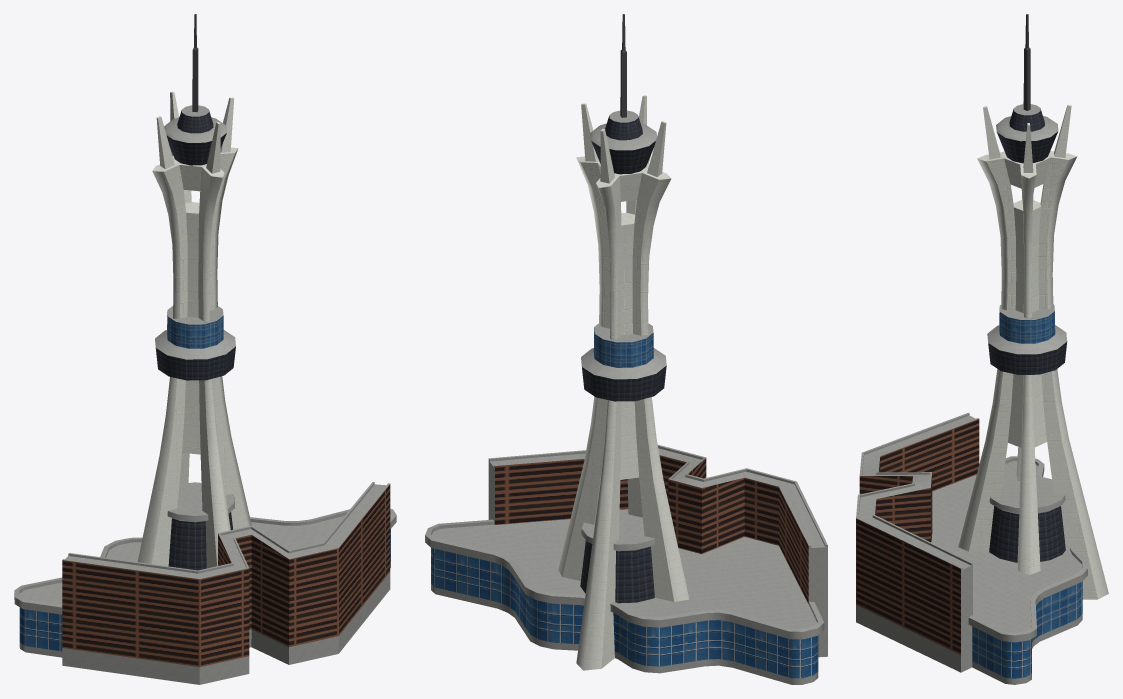
File: Re_Invent_track_landmark_05.dae
3 renders of one model, left to right at view 1: azimuth 30°, elevation 25°; view 2: azimuth 150°, elevation 25°; view 3: azimuth 270°, elevation 25°, orthographic. The views are drawn at different scales.
Visible parts, largest first — view 1: Re_Invent_track_landmark_05; view 2: Re_Invent_track_landmark_05; view 3: Re_Invent_track_landmark_05.
Boxes of the visible parts, <box> form: Re_Invent_track_landmark_05: <box>14,14,396,684</box>; Re_Invent_track_landmark_05: <box>425,14,827,684</box>; Re_Invent_track_landmark_05: <box>856,14,1108,684</box>.
Size of the model in its own units: 7.5 by 4.46 by 11.31.
Materials: 6 (6 with a texture image).
